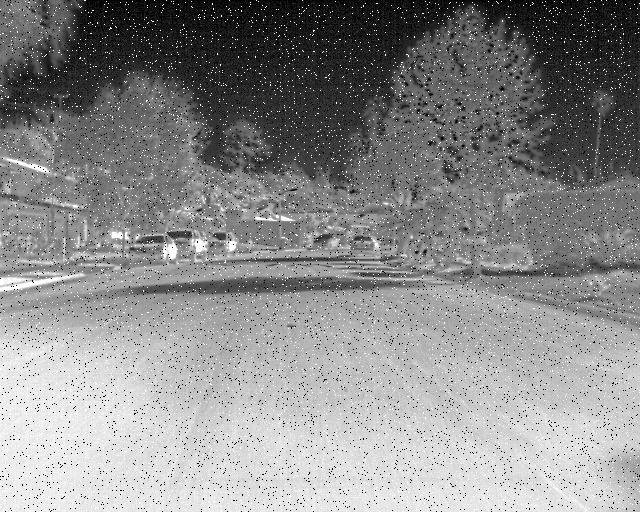car: (130, 224, 179, 275), (168, 218, 211, 262), (207, 212, 244, 263), (346, 232, 385, 268), (310, 225, 345, 259)
